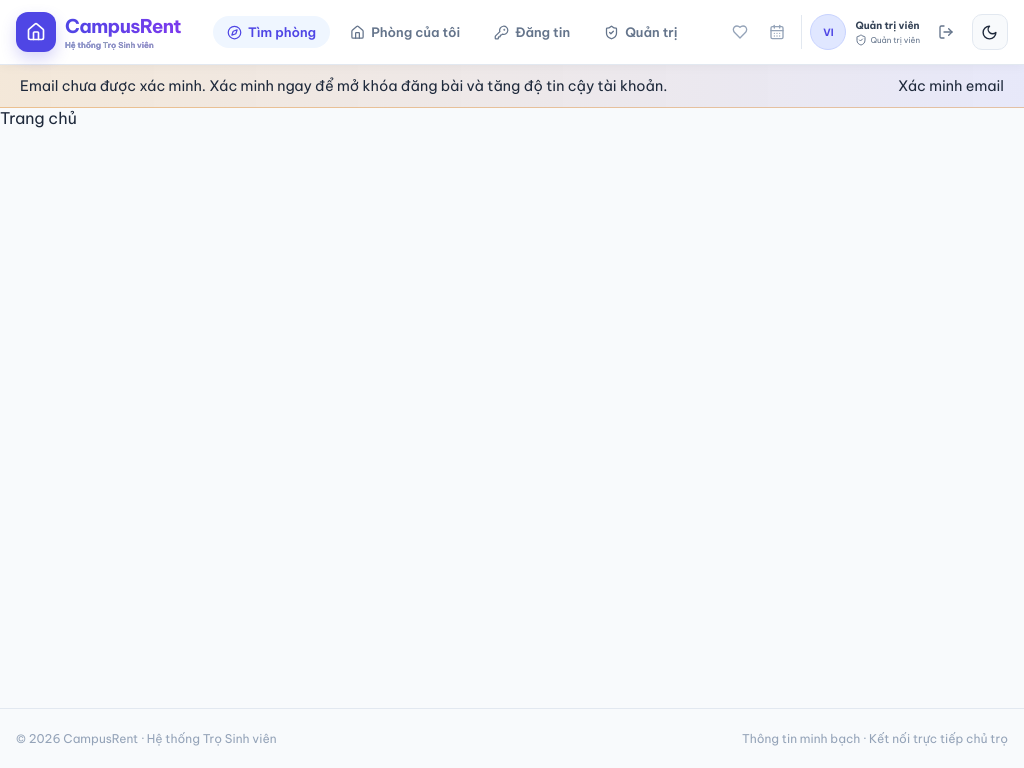
cho phép bật tắt chế độ giao diện tối cho người dùng
The image size is (1024, 768).
Click the button named "Chuyển giao diện tối".
click(990, 32)  # box [972, 14, 1008, 50]
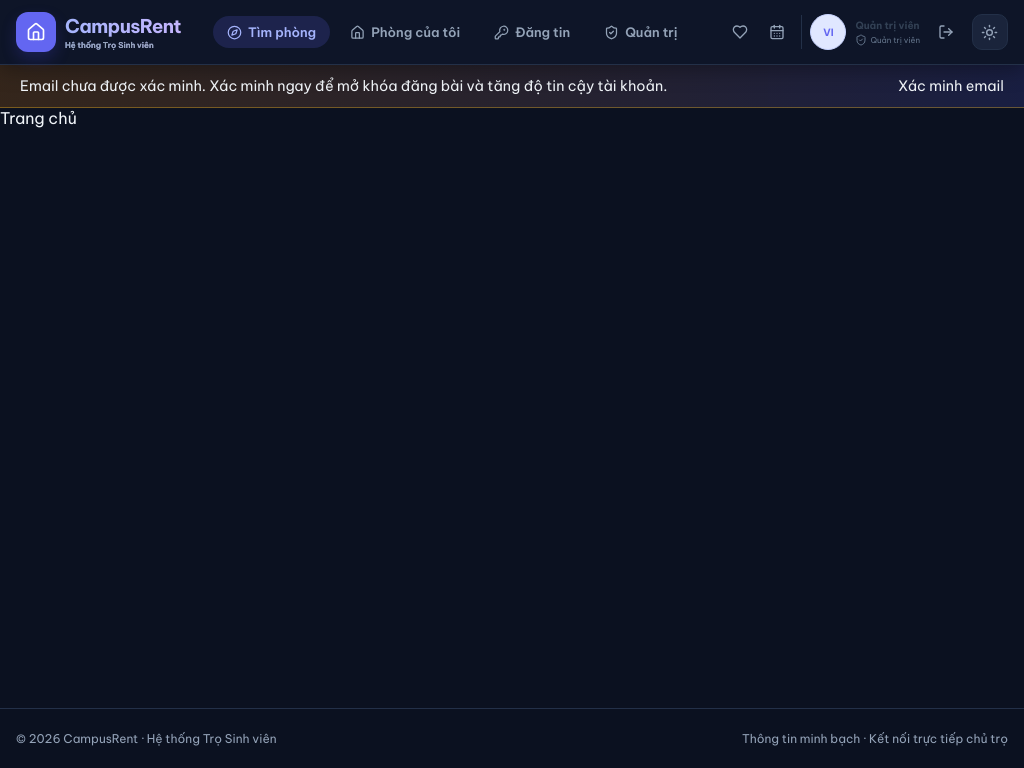
Check: the button named "Chuyển giao diện sáng" is shown, box [972, 14, 1008, 50]
